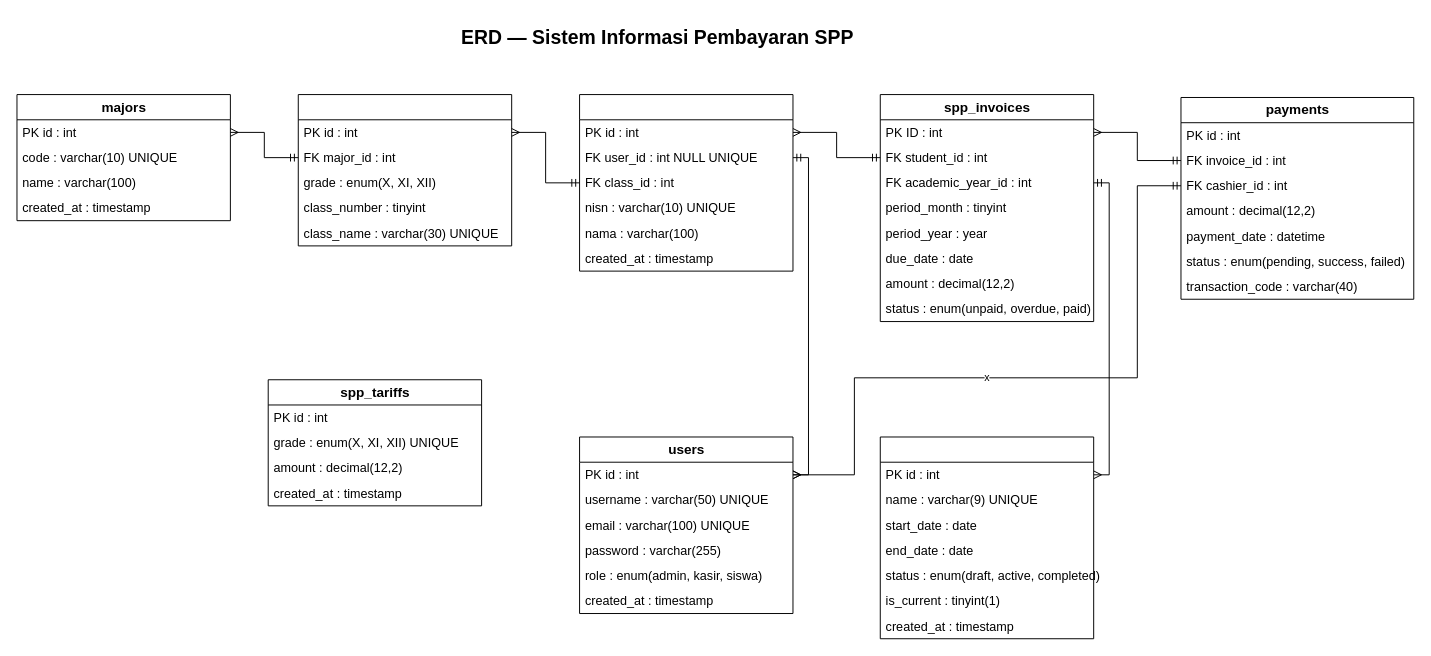
The diagram is 1431 pixels wide and 656 high, and some of its shapes have lost their labels. The box of each missing label's shape, as (x1, y1, x2, y2) in pixels:
academic_years: (879, 436, 1094, 639)
classes: (297, 94, 512, 246)
students: (579, 94, 793, 271)
